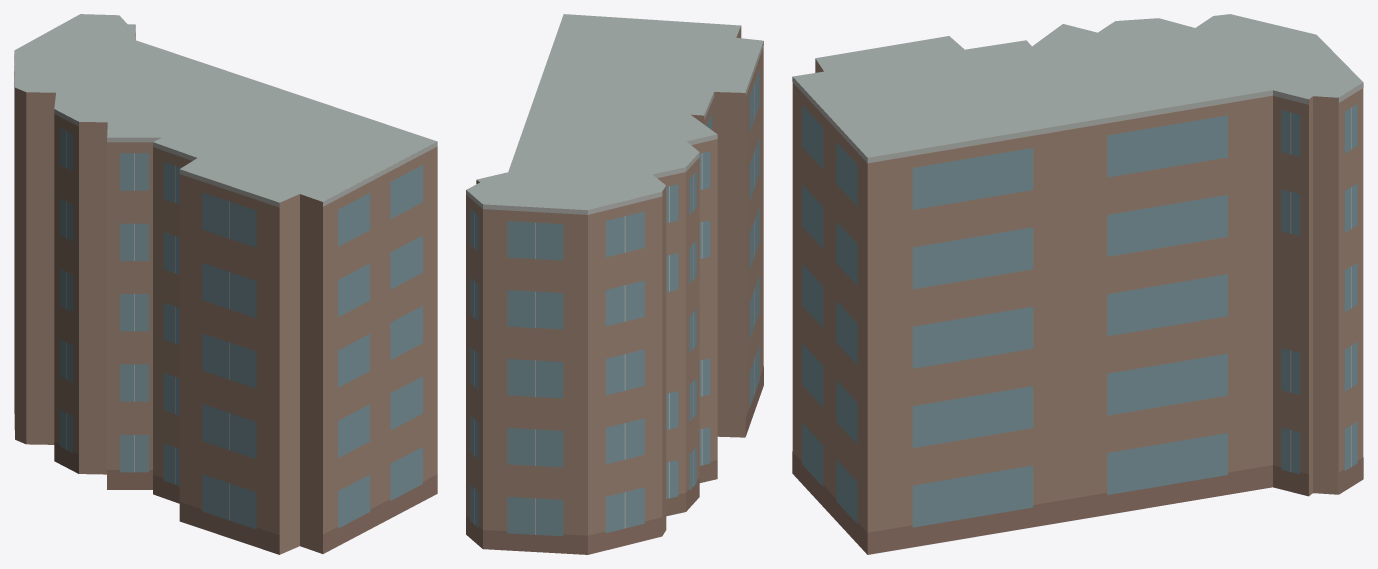
The model's file is survey-upis-32850415.glb.
The picture shows the model from 3 angles, left to right: view 1: azimuth 30°, elevation 25°; view 2: azimuth 150°, elevation 25°; view 3: azimuth 270°, elevation 25°; orthographic projection. The views are drawn at different scales.
Parts seen in each view (by area): view 1: survey-upis-32850415.tmp; view 2: survey-upis-32850415.tmp; view 3: survey-upis-32850415.tmp.
Boxes of the visible parts, x1,y1,x2,y2 form: survey-upis-32850415.tmp: (14, 14, 437, 554); survey-upis-32850415.tmp: (466, 14, 763, 554); survey-upis-32850415.tmp: (792, 14, 1363, 554).
Size of the model in its own units: 13.85 by 17.8 by 23.21.
